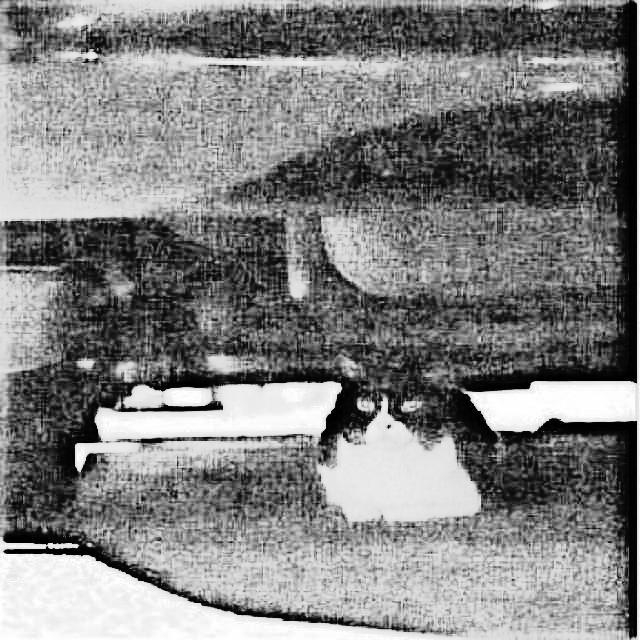Cat: (307, 350, 506, 527)
